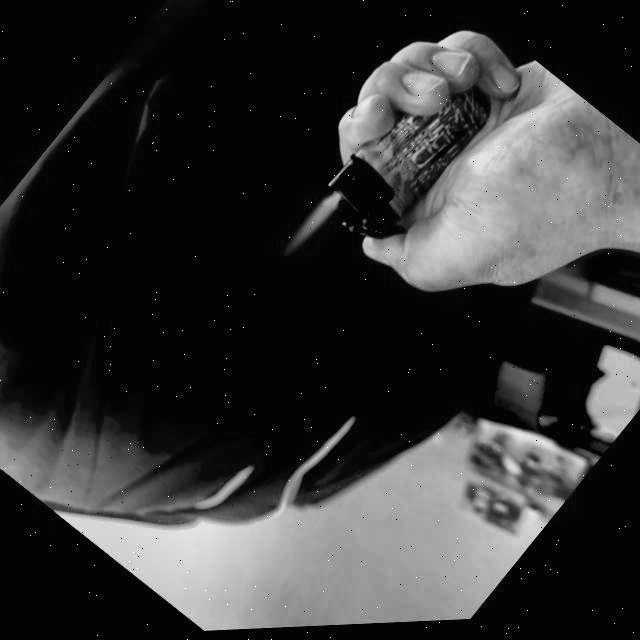Fire: (268, 187, 345, 274)
